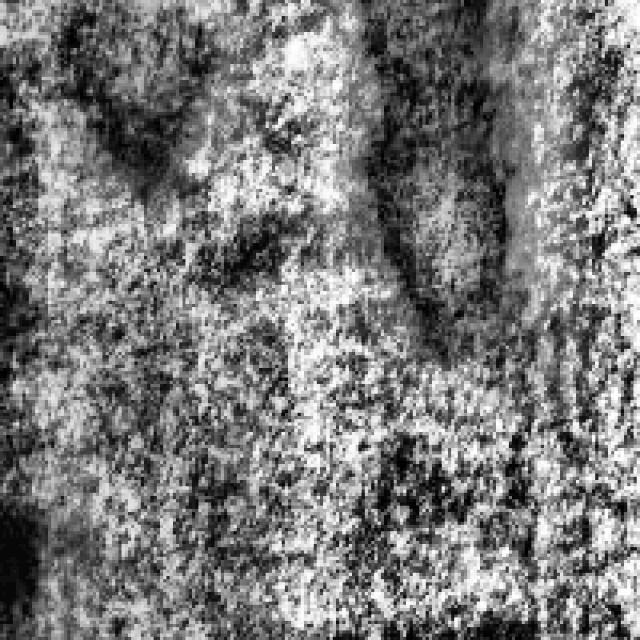Scratches: (330, 0, 524, 355), (48, 0, 205, 202)
